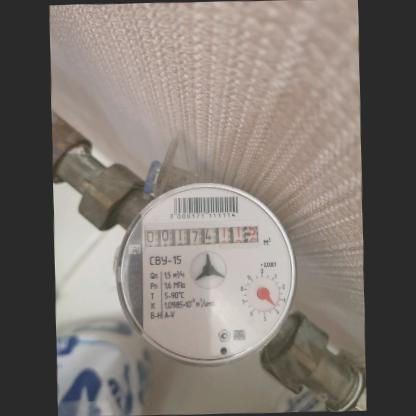digital_screen: (142, 222, 219, 252)
